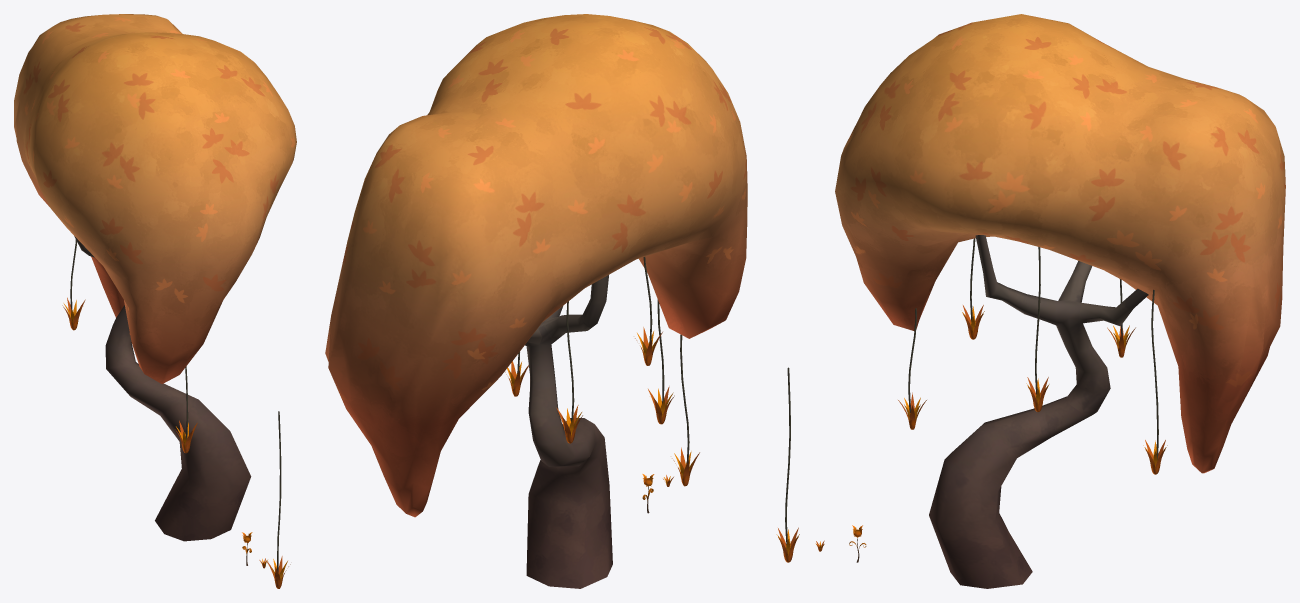
File: FireTree_V01.fbx
The picture shows the model from 3 angles, left to right: view 1: azimuth 30°, elevation 25°; view 2: azimuth 150°, elevation 25°; view 3: azimuth 270°, elevation 25°; orthographic projection. The views are drawn at different scales.
Parts seen in each view (by area): view 1: FireTree, Lines, Line; view 2: FireTree, Lines, Line; view 3: FireTree, Lines, Line.
Part boxes in pixels (left/top/right/bottom): FireTree: left=14, top=14, right=296, bottom=541; Lines: left=62, top=239, right=197, bottom=453; Line: left=266, top=411, right=290, bottom=588; FireTree: left=325, top=14, right=747, bottom=588; Lines: left=505, top=257, right=674, bottom=443; Line: left=672, top=334, right=699, bottom=486; FireTree: left=835, top=14, right=1285, bottom=588; Lines: left=898, top=238, right=1167, bottom=474; Line: left=776, top=367, right=799, bottom=562.
Bounding box in the file's own units: 195 × 390 × 341.
1 material, 1 textured.
